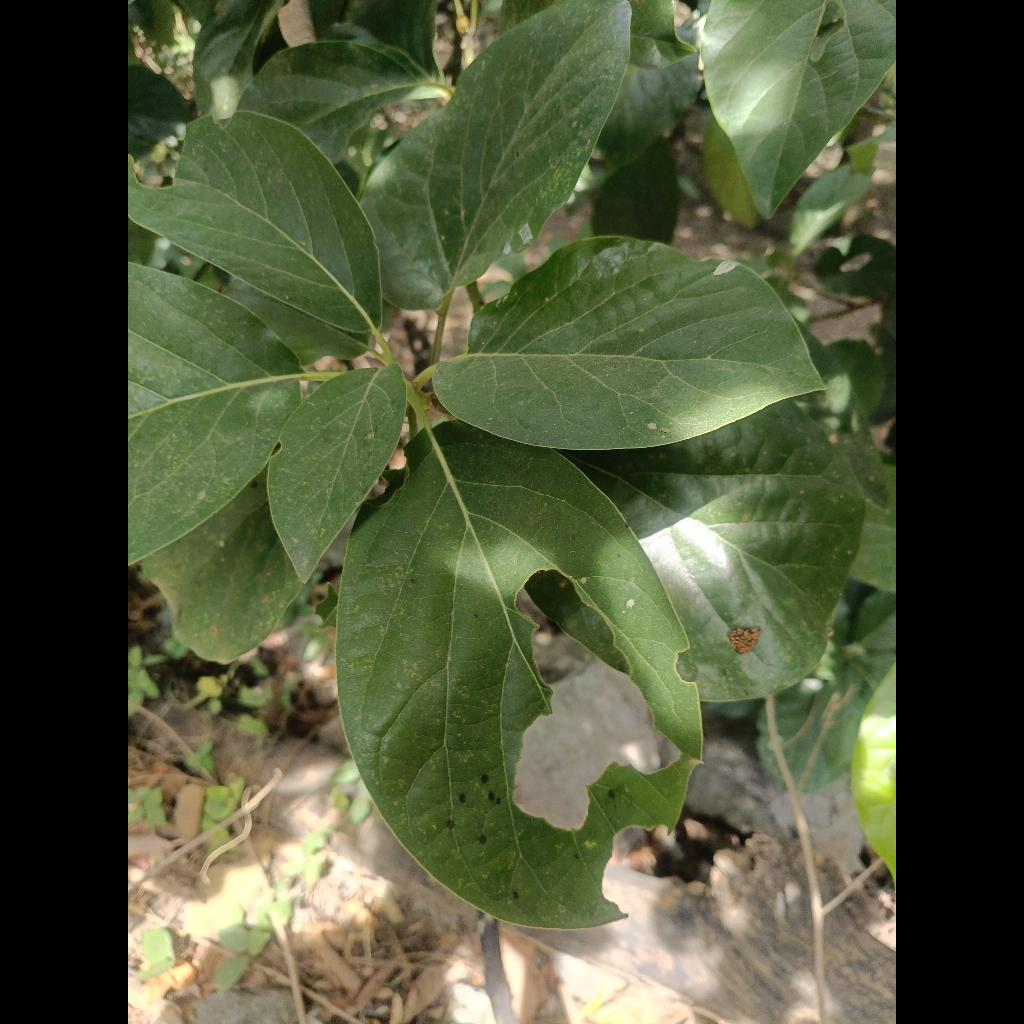plaga: (336, 421, 701, 928)
